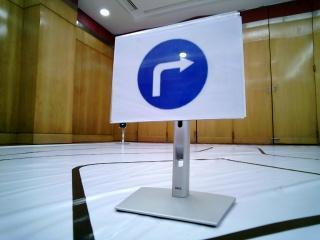right: (114, 38, 232, 119)
